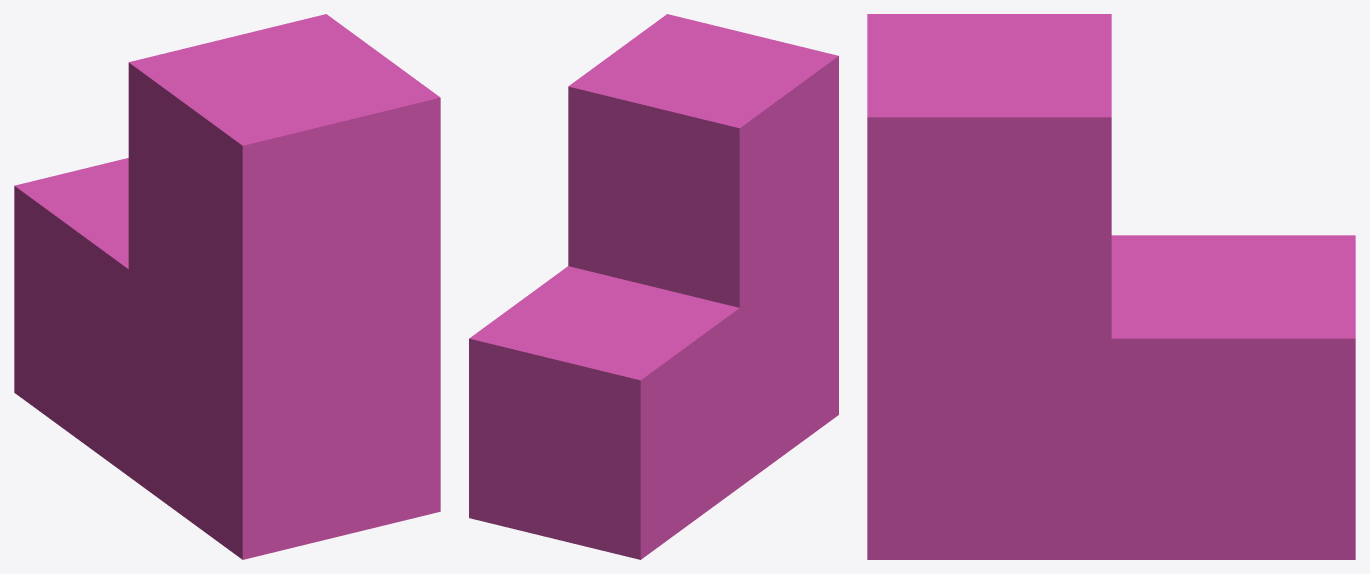
Rendered from Block2.fbx.
3 renders of one model, left to right at view 1: azimuth 30°, elevation 25°; view 2: azimuth 150°, elevation 25°; view 3: azimuth 270°, elevation 25°, orthographic. The views are drawn at different scales.
Visible parts, largest first — view 1: Cube.001; view 2: Cube.001; view 3: Cube.001.
Boxes of the visible parts, left/top/right/bottom form: Cube.001: left=14, top=14, right=440, bottom=559; Cube.001: left=469, top=14, right=838, bottom=559; Cube.001: left=867, top=14, right=1355, bottom=559.
Size of the model in its own units: 200 by 400 by 400.
